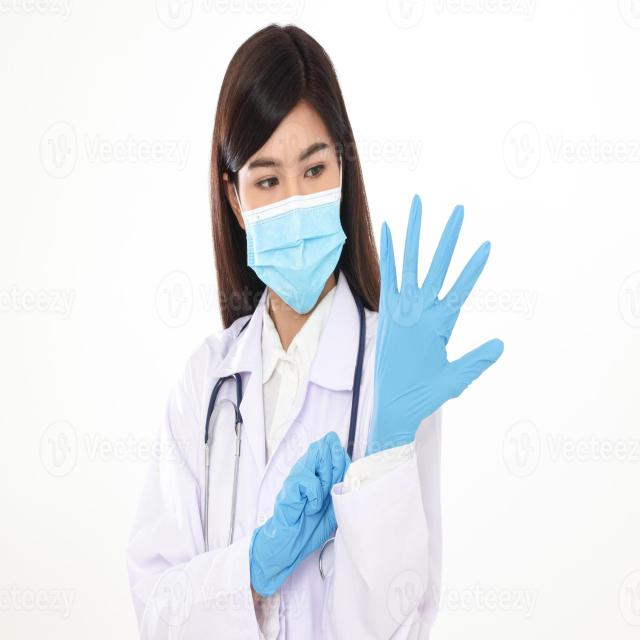Gloves: (368, 189, 509, 453), (249, 424, 363, 588)
Mask: (218, 164, 358, 315)
